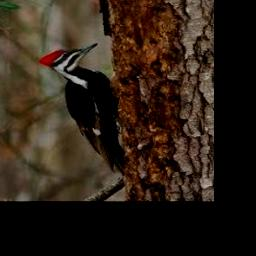Woodpecker: (40, 43, 125, 175)
